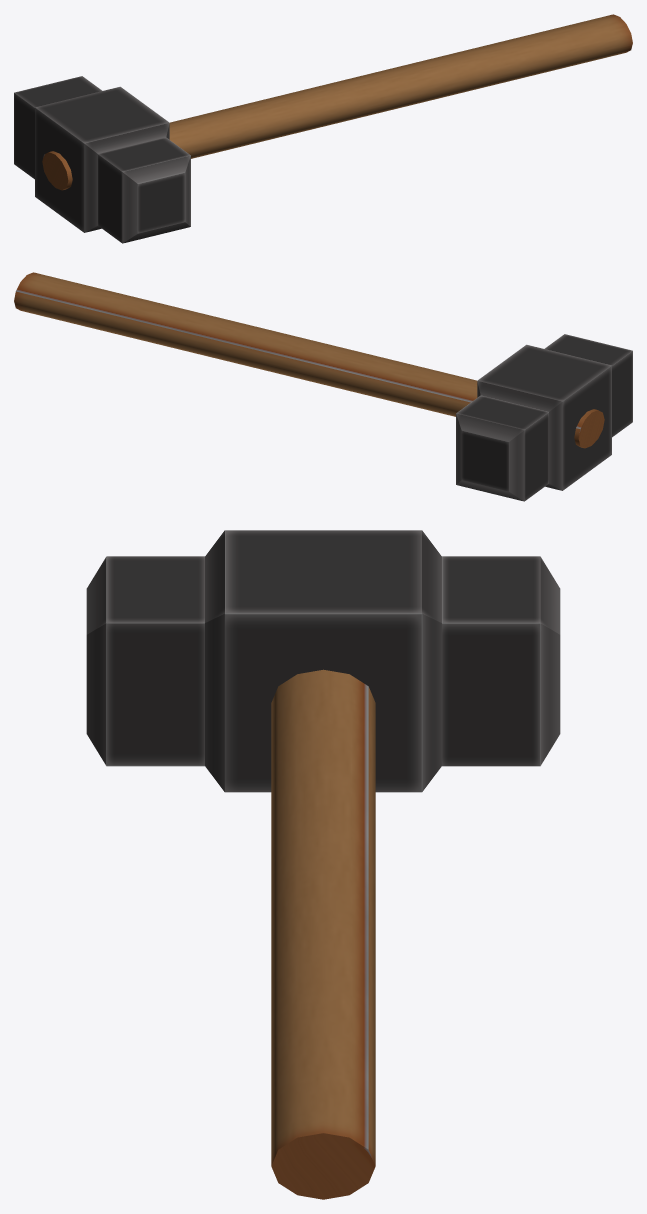
File: Sledgehammer.FBX
3 renders of one model, top to bottom at view 1: azimuth 30°, elevation 25°; view 2: azimuth 150°, elevation 25°; view 3: azimuth 270°, elevation 25°, orthographic. The views are drawn at different scales.
Visible parts, largest first — view 1: Box001, Cylinder001; view 2: Box001, Cylinder001; view 3: Box001, Cylinder001.
Part boxes in pixels (x1=…): Box001: x1=14, y1=76, x2=190, y2=243; Cylinder001: x1=42, y1=14, x2=632, y2=190; Box001: x1=456, y1=334, x2=632, y2=501; Cylinder001: x1=14, y1=272, x2=604, y2=448; Box001: x1=86, y1=530, x2=560, y2=792; Cylinder001: x1=271, y1=669, x2=375, y2=1199.
Size of the model in its own units: 0.5 by 0.0757 by 0.1816.
1 material, 1 textured.
